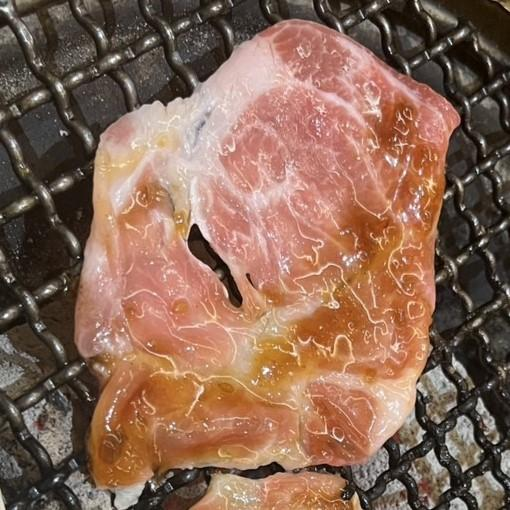Undercooked: (75, 20, 459, 509)
